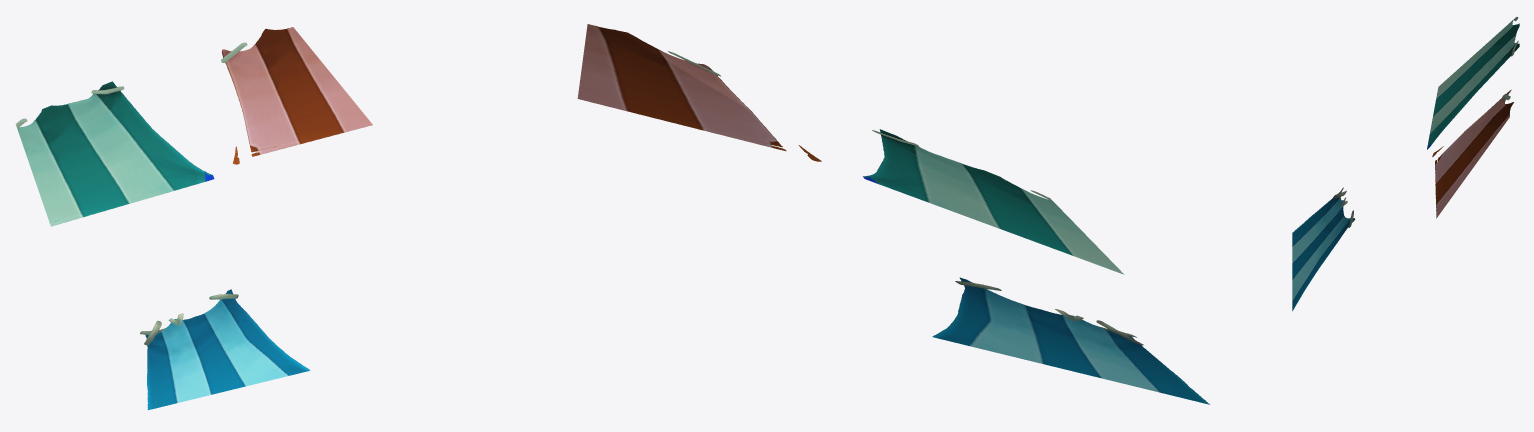
3 views of the same model, side by side, from view 1: azimuth 30°, elevation 25°; view 2: azimuth 150°, elevation 25°; view 3: azimuth 270°, elevation 25° (orthographic). The views are drawn at different scales.
Visible parts, largest first — view 1: 2001101_06; view 2: 2001101_06; view 3: 2001101_06.
Boxes of the visible parts, x1,y1,x2,y2 form: 2001101_06: (15,27,372,410); 2001101_06: (577,24,1209,404); 2001101_06: (1292,17,1519,311).
Bounding box in the file's own units: 80.55 × 46.92 × 38.67.
